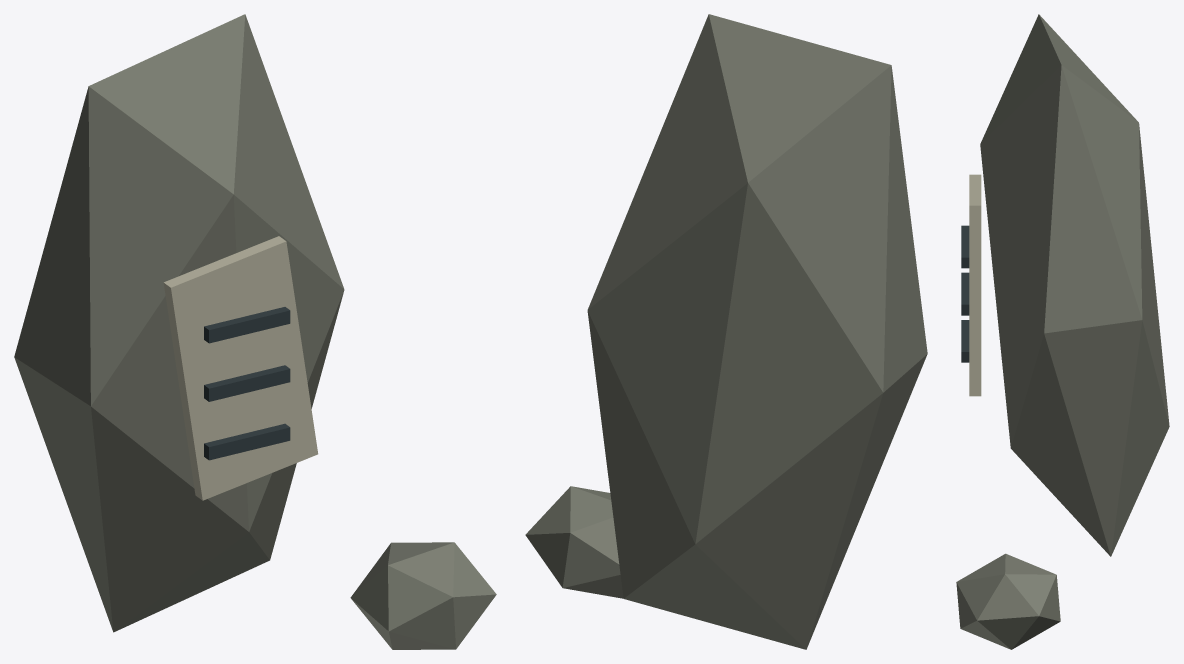
File: chipped-mile.glb
3 views of the same model, side by side, from view 1: azimuth 30°, elevation 25°; view 2: azimuth 150°, elevation 25°; view 3: azimuth 270°, elevation 25° (orthographic). The views are drawn at different scales.
Parts seen in each view (by area): view 1: chipped-mile; view 2: chipped-mile; view 3: chipped-mile.
Boxes of the visible parts, <box> form: chipped-mile: <box>14,14,496,649</box>; chipped-mile: <box>525,14,927,649</box>; chipped-mile: <box>956,14,1169,649</box>.
Bounding box in the file's own units: 0.7935 × 1.21 × 0.4501.
